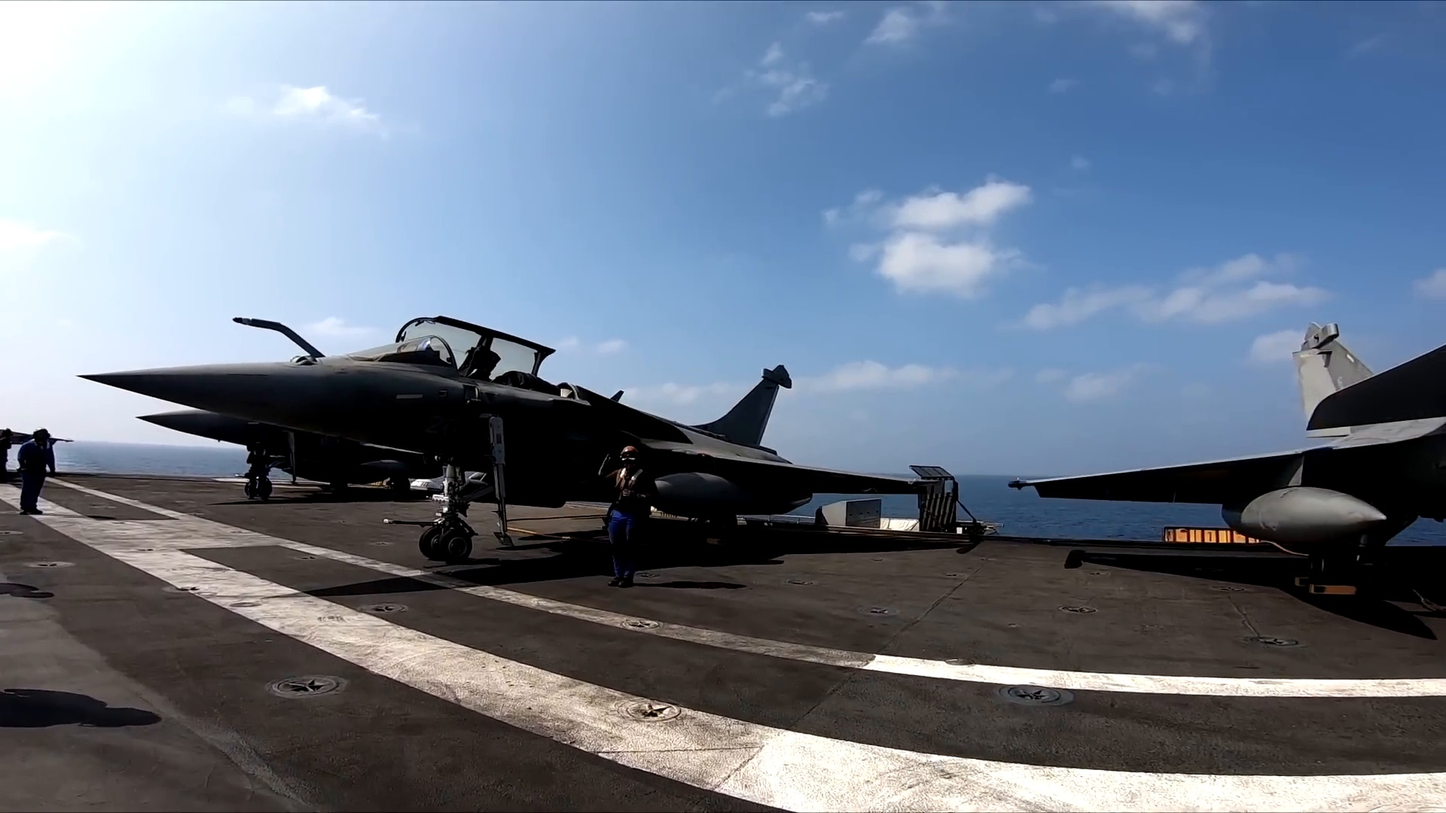Rafale: (78, 315, 942, 562), (1008, 323, 1443, 596)
